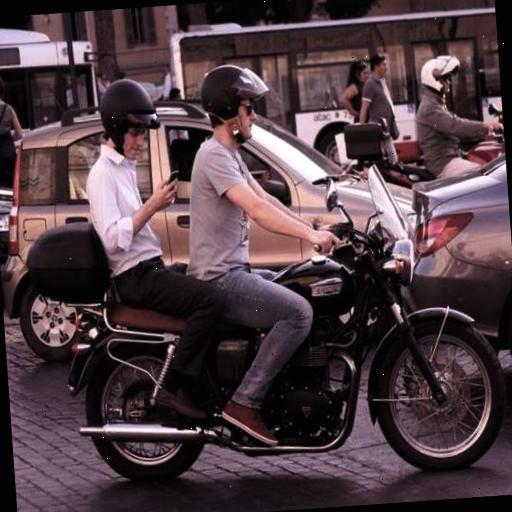helmet: (172, 38, 394, 455), (402, 40, 508, 201)
